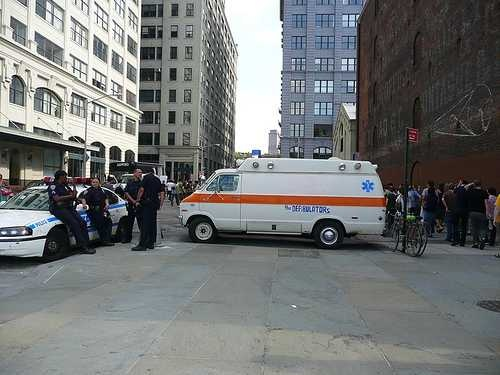Ambulance: (173, 143, 394, 253)
